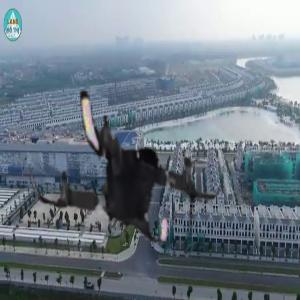drone: (24, 56, 235, 267)
